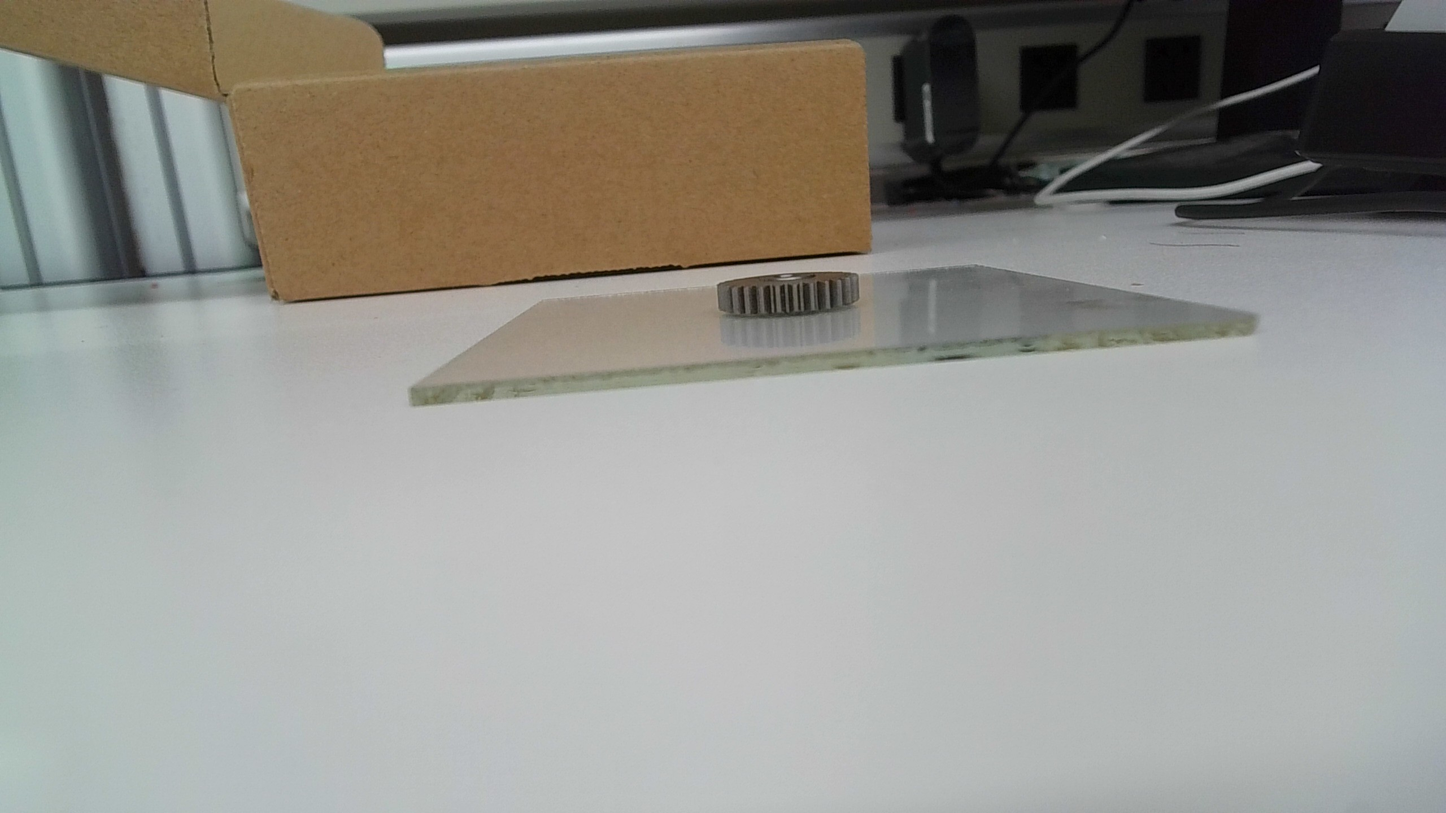gear: (714, 271, 864, 321)
